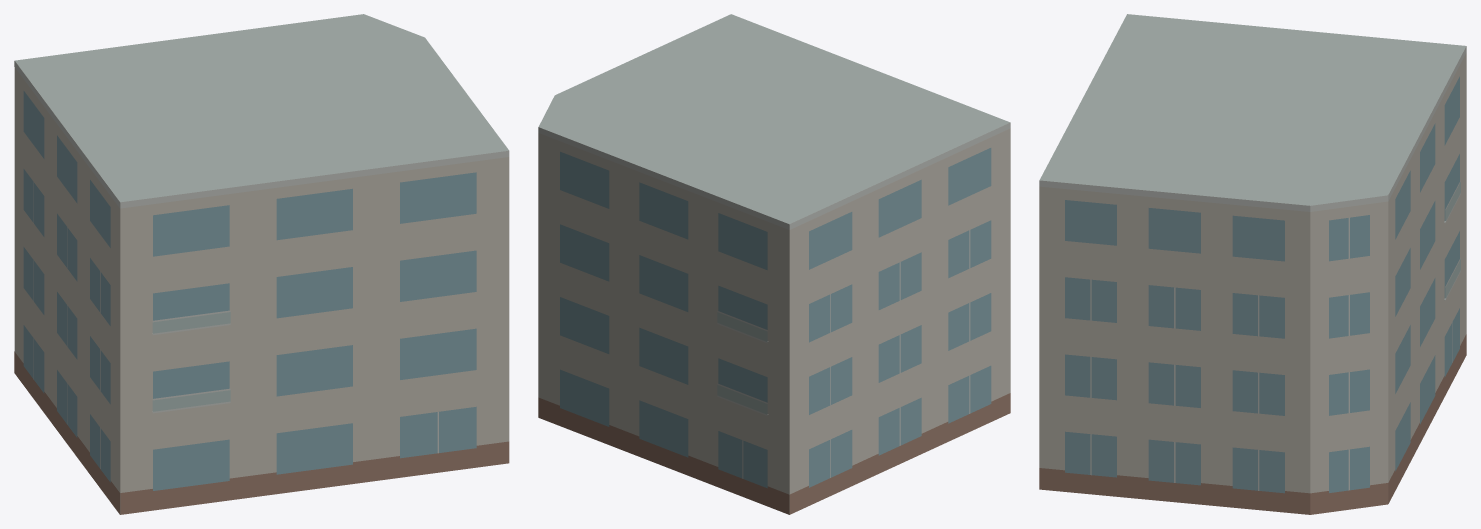
The model's file is residential-d0c8d9b4-a7d5-42f8-ad7b-1365ec74c724.glb.
3 renders of one model, left to right at view 1: azimuth 30°, elevation 25°; view 2: azimuth 150°, elevation 25°; view 3: azimuth 270°, elevation 25°, orthographic. The views are drawn at different scales.
Parts seen in each view (by area): view 1: residential-d0c8d9b4-a7d5-42f8-ad7b-1365ec74c724.tmp; view 2: residential-d0c8d9b4-a7d5-42f8-ad7b-1365ec74c724.tmp; view 3: residential-d0c8d9b4-a7d5-42f8-ad7b-1365ec74c724.tmp.
Part boxes in pixels (x1,y1,x2,y2): residential-d0c8d9b4-a7d5-42f8-ad7b-1365ec74c724.tmp: (14,14,509,514); residential-d0c8d9b4-a7d5-42f8-ad7b-1365ec74c724.tmp: (538,14,1010,514); residential-d0c8d9b4-a7d5-42f8-ad7b-1365ec74c724.tmp: (1039,14,1466,514).
Bounding box in the file's own units: 16.25 × 12.2 × 15.3.
